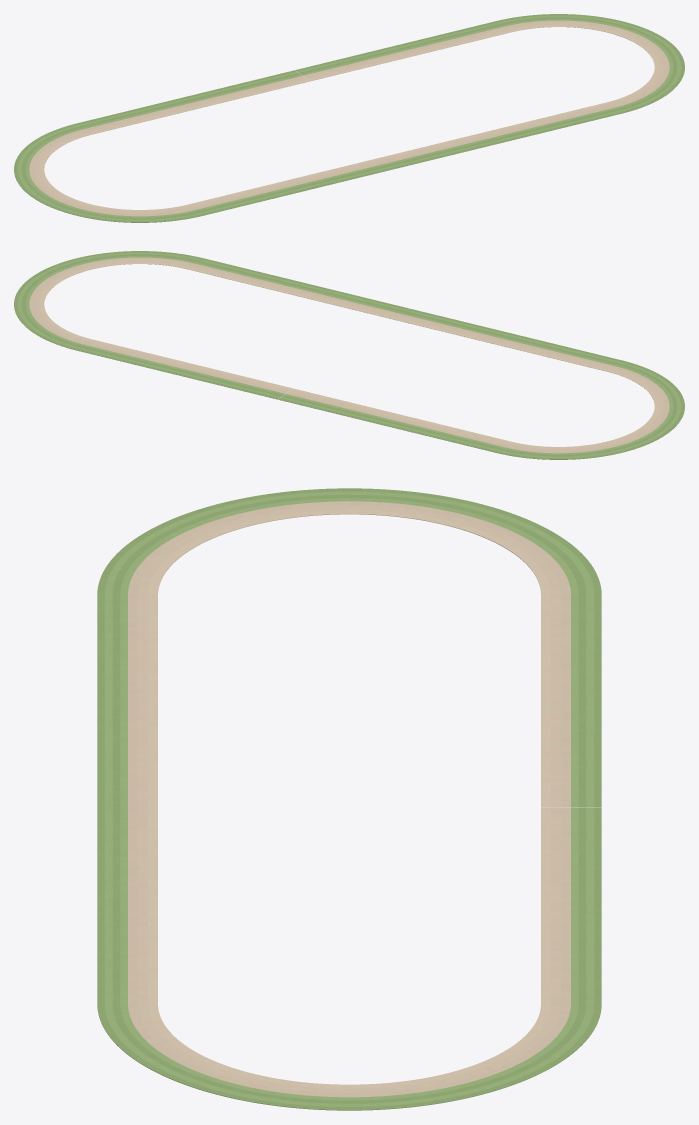
The model's file is SM_BM_BHip_Course.glb.
The picture shows the model from 3 angles, top to bottom: view 1: azimuth 30°, elevation 25°; view 2: azimuth 150°, elevation 25°; view 3: azimuth 270°, elevation 25°; orthographic projection. The views are drawn at different scales.
Parts seen in each view (by area): view 1: SM_BM_BHip_Course; view 2: SM_BM_BHip_Course; view 3: SM_BM_BHip_Course.
Boxes of the visible parts, box(x1,y1,x2,y2) form: SM_BM_BHip_Course: box(14, 14, 684, 222); SM_BM_BHip_Course: box(14, 251, 684, 459); SM_BM_BHip_Course: box(97, 488, 601, 1110).
Size of the model in its own units: 761 by 0.212 by 261.
